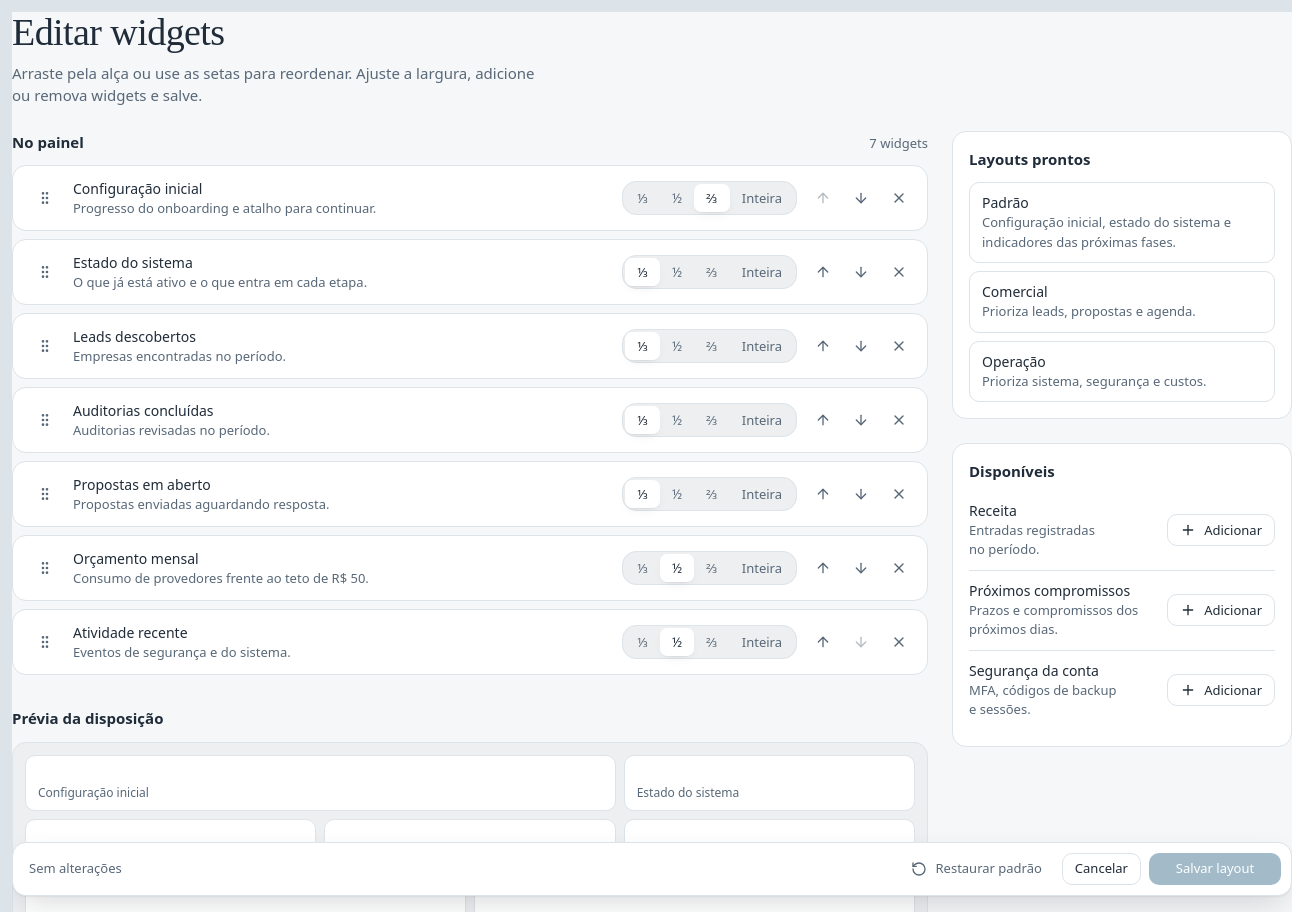
Test: editor de widgets › reordena pelos botões, sem depender de arraste
Click the button named "Mover Configuração inicial para baixo".
click(861, 198)  # box 845,182 -> 877,214
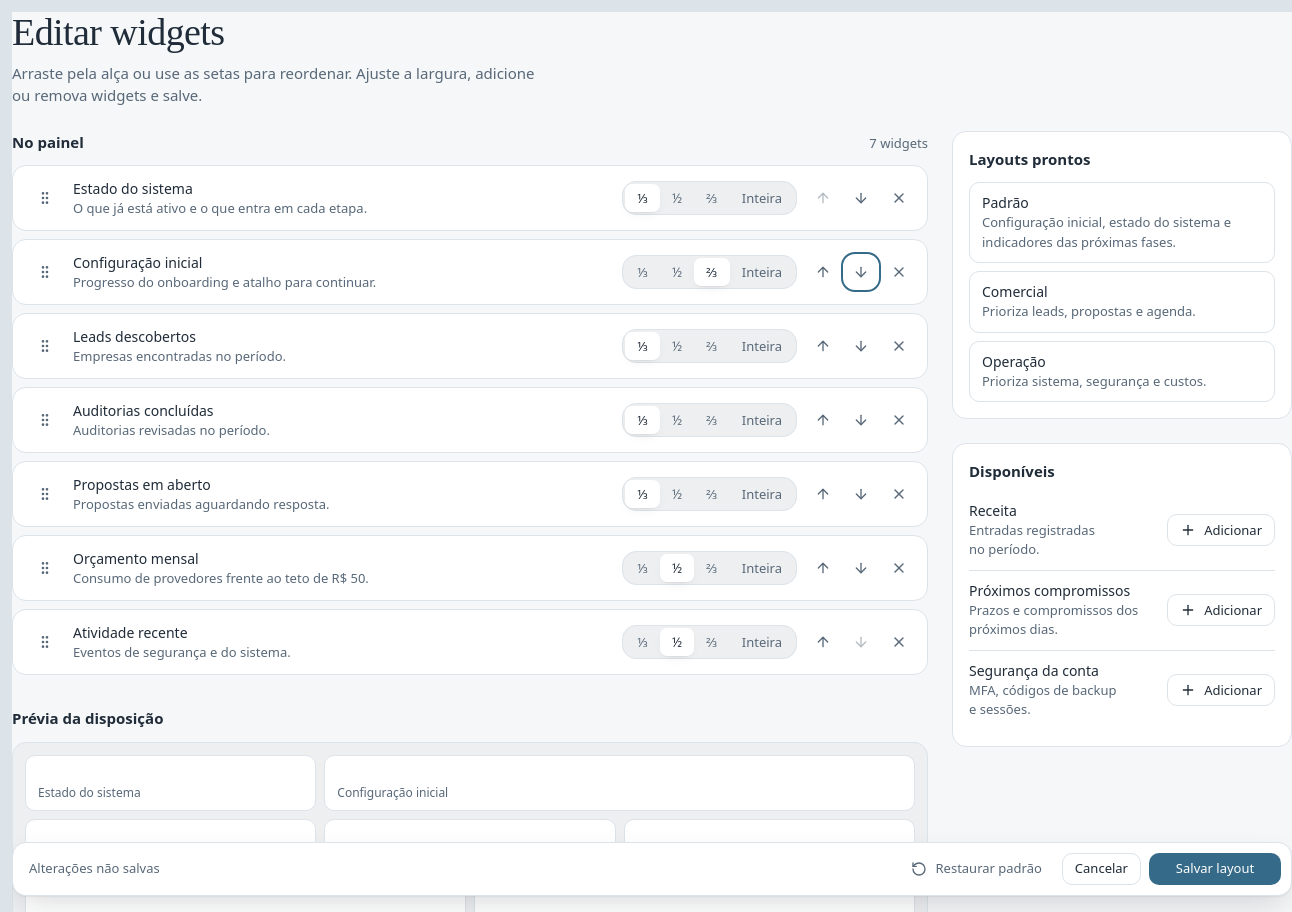
Expected: the 1st text "Estado do sistema" is shown, 73,178 -> 193,198
Now the text "Alterações não salvas" is shown, box 23,859 -> 166,879
